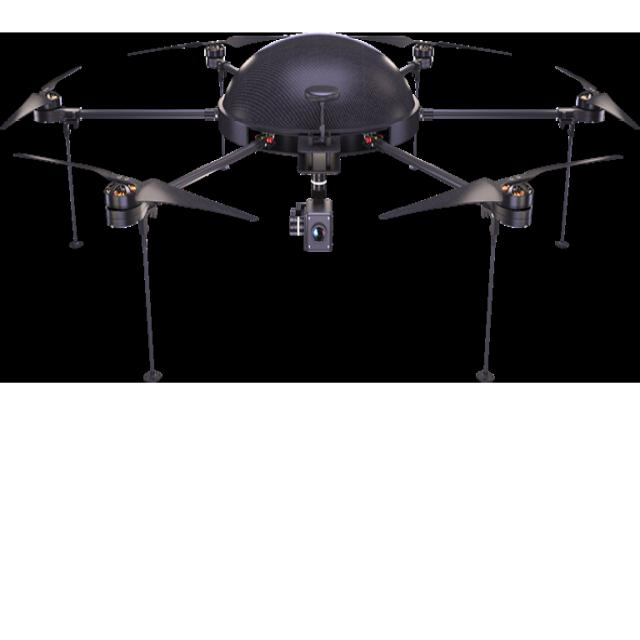drone: (1, 22, 640, 274)
